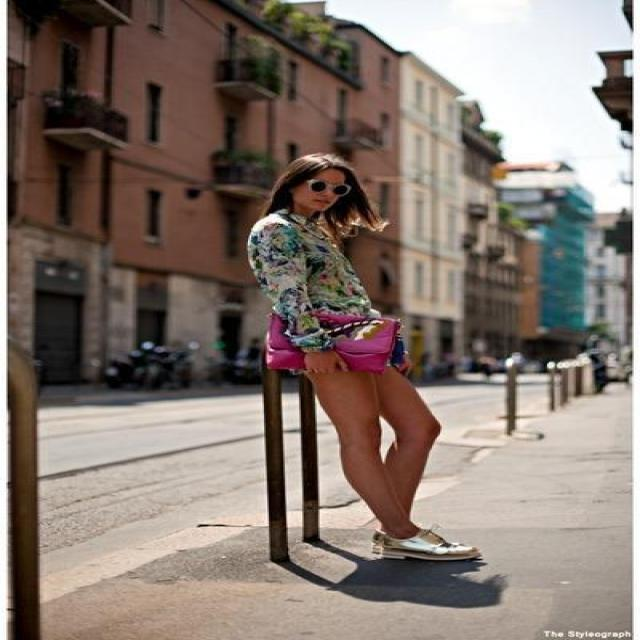bag: (243, 302, 392, 386)
shirt: (248, 204, 379, 346)
shoe: (373, 520, 469, 552)
